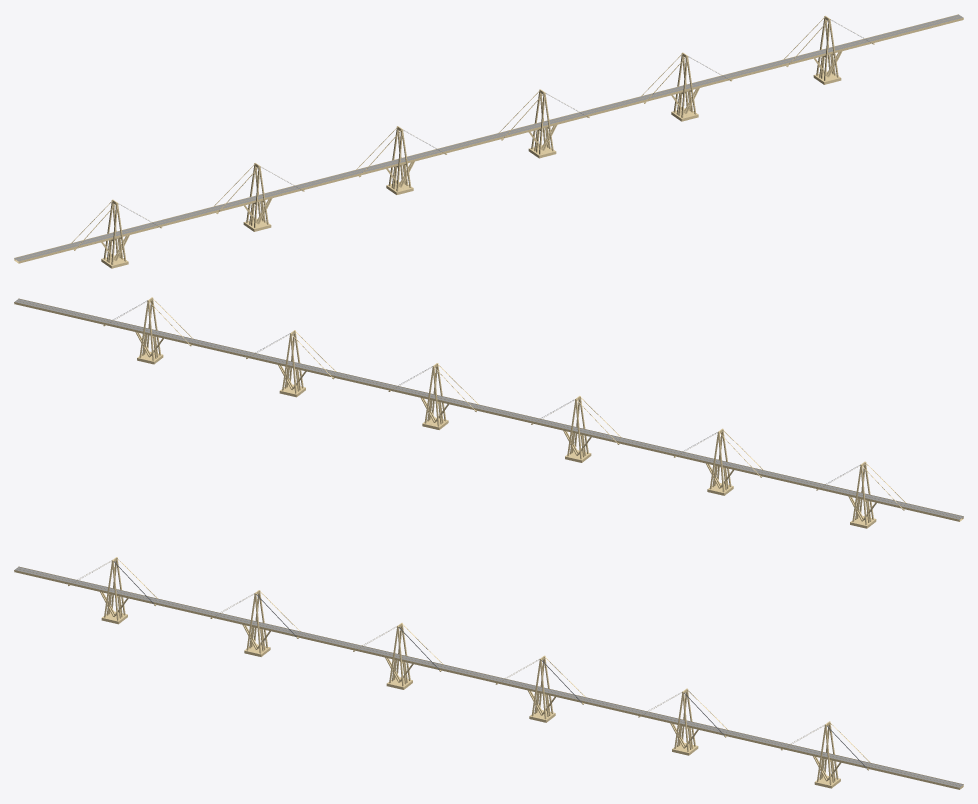
Rendered from PuEnTe1.glb.
The picture shows the model from 3 angles, top to bottom: view 1: azimuth 30°, elevation 25°; view 2: azimuth 150°, elevation 25°; view 3: azimuth 330°, elevation 25°; orthographic projection. The views are drawn at different scales.
Parts seen in each view (by area): view 1: SketchUp.003, SketchUp.012, SketchUp.013, instance_5, instance_1, instance_3, instance_2, instance_0, instance_4; view 2: SketchUp.003, SketchUp.013, SketchUp.012, instance_4, instance_3, instance_0, instance_2, instance_5, instance_1; view 3: SketchUp.003, SketchUp.012, SketchUp.013, instance_0, instance_4, instance_5, instance_2, instance_3, instance_1.
Boxes of the visible parts, x1,y1,x2,y2 form: SketchUp.003: (14, 14, 963, 263); SketchUp.012: (14, 14, 960, 259); SketchUp.013: (17, 16, 962, 261); instance_5: (101, 199, 129, 264); instance_1: (671, 52, 699, 117); instance_3: (386, 126, 414, 191); instance_2: (528, 89, 557, 154); instance_0: (814, 15, 842, 80); instance_4: (244, 163, 272, 227); SketchUp.003: (14, 298, 963, 521); SketchUp.013: (17, 299, 963, 517); SketchUp.012: (15, 300, 961, 519); instance_4: (706, 428, 734, 492); instance_3: (563, 396, 591, 459); instance_0: (135, 297, 163, 360); instance_2: (421, 363, 448, 426); instance_5: (848, 461, 876, 524); instance_1: (278, 330, 306, 393); SketchUp.003: (14, 566, 963, 789); SketchUp.012: (17, 567, 963, 785); SketchUp.013: (15, 568, 961, 787); instance_0: (813, 721, 841, 784); instance_4: (242, 590, 270, 653); instance_5: (100, 557, 128, 620); instance_2: (527, 655, 555, 719); instance_3: (385, 623, 413, 686); instance_1: (670, 688, 698, 751).
Bounding box in the file's own units: 36.94 × 2.27 × 1.36.
Materials: 6 (4 with a texture image).
